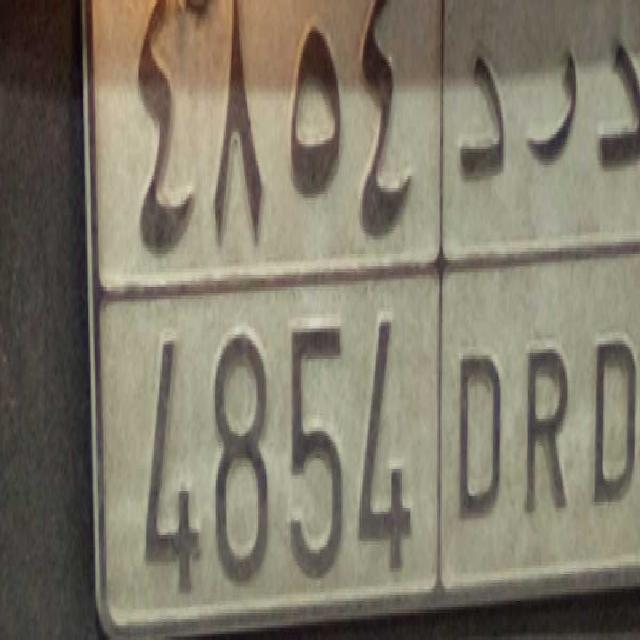license_plate: (124, 271, 640, 637)
